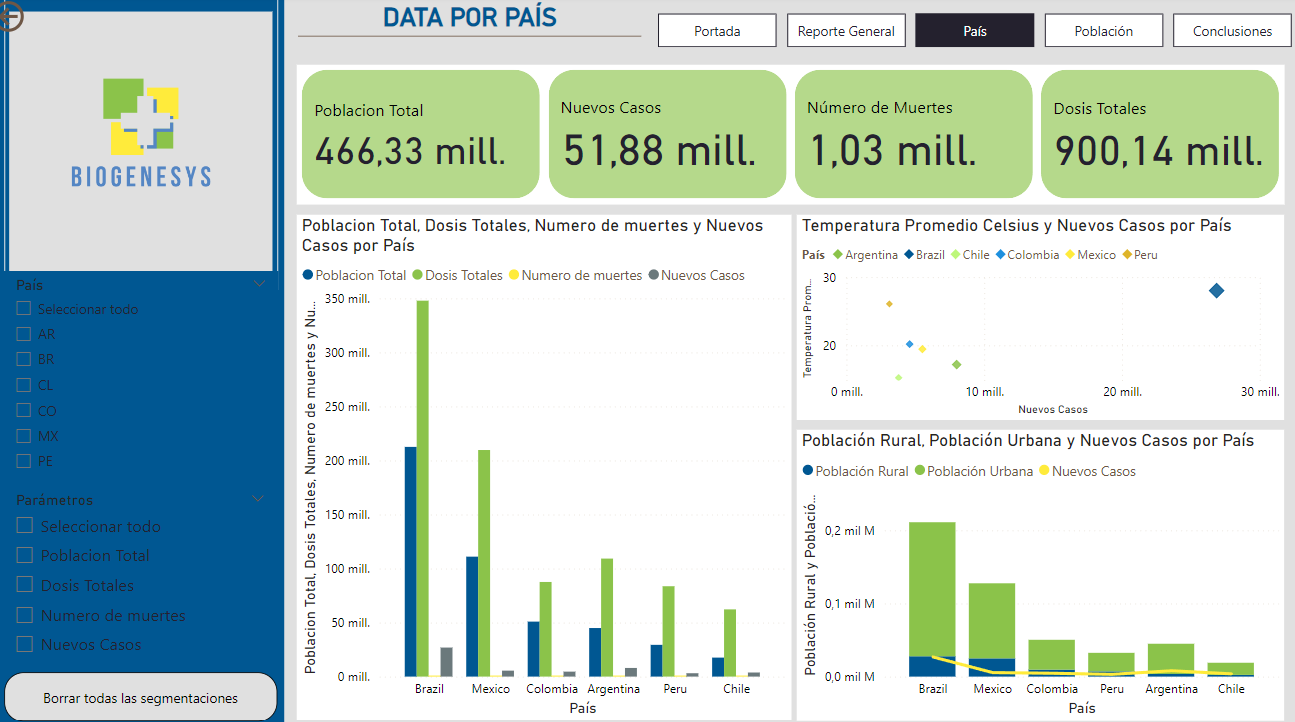

The dashboard page shown, as its layout file describes it:
{"tool":"powerbi","page":{"name":"País","canvas":[1280,720],"ordinal":2},"visuals":[{"type":"textbox","box":[9.8,0,280,720.2],"z":0},{"type":"image","box":[15.5,0,267.6,287.3],"z":1000},{"type":"textbox","title":"DATA POR PAÍS","box":[303.3,6.1,336.3,63.6],"z":2000},{"type":"pageNavigator","box":[655.1,17.1,624.9,33],"z":3000},{"type":"slicer","fields":{"Values":["Datos_Finales_Filtrados (2).country_code"]},"box":[14.5,269.5,269.5,210.3],"z":4000},{"type":"actionButton","box":[15.8,661.2,266.8,48.6],"z":5000},{"type":"actionButton","box":[0,0,100,40],"z":6000},{"type":"cardVisual","fields":{"Data":["Datos_Finales_Filtrados (2).Poblacion Total","Sum(Datos_Finales_Filtrados (2).new_confirmed)","Sum(Datos_Finales_Filtrados (2).new_deceased)","Datos_Finales_Filtrados (2).Dosis Totales"]},"box":[302.3,67,966.1,136.7],"z":7000},{"type":"clusteredColumnChart","fields":{"Y":["Datos_Finales_Filtrados (2).Poblacion Total","Datos_Finales_Filtrados (2).Dosis Totales","Tabla Medidas.Numero de muertes","Tabla Medidas.Nuevos Casos"],"Category":["Datos_Finales_Filtrados (2).country_name"]},"box":[302.3,214.3,483.7,495.5],"z":8000},{"type":"slicer","fields":{"Values":["Parámetros.Parámetros"]},"box":[14.5,479.8,268.1,178.8],"z":9000},{"type":"lineStackedColumnComboChart","fields":{"Category":["Datos_Finales_Filtrados (2).country_name"],"Y":["Avg(Datos_Finales_Filtrados (2).population_rural)","Avg(Datos_Finales_Filtrados (2).population_urban)"],"Y2":["Tabla Medidas.Nuevos Casos"]},"box":[791.3,424.6,477.1,285.2],"z":11000},{"type":"scatterChart","title":"Temperatura Promedio Celsius y Nuevos Casos por País","fields":{"Series":["Datos_Finales_Filtrados (2).country_name"],"Size":["Tabla Medidas.Nuevos Casos"],"X":["Tabla Medidas.Nuevos Casos"],"Y":["Avg(Datos_Finales_Filtrados (2).average_temperature_celsius)"]},"box":[791.3,214.3,477.1,201.1],"z":11001}]}

Visuals, with their boxes on the page's 1280x720 design canvas (x1, y1, x2, y2). These are canvas units, not pixel positions in the 1295x722 screenshot, which may show the page scaled, cropped or inside an application window:
textbox: left=10, top=0, right=290, bottom=720
image: left=16, top=0, right=283, bottom=287
"DATA POR PAÍS" textbox: left=303, top=6, right=640, bottom=70
pageNavigator: left=655, top=17, right=1280, bottom=50
slicer - Datos_Finales_Filtrados (2).country_code: left=14, top=270, right=284, bottom=480
actionButton: left=16, top=661, right=283, bottom=710
actionButton: left=0, top=0, right=100, bottom=40
cardVisual - Datos_Finales_Filtrados (2).Poblacion Total x Sum(Datos_Finales_Filtrados (2).new_confirmed): left=302, top=67, right=1268, bottom=204
clusteredColumnChart - Datos_Finales_Filtrados (2).Poblacion Total x Datos_Finales_Filtrados (2).Dosis Totales: left=302, top=214, right=786, bottom=710
slicer - Parámetros.Parámetros: left=14, top=480, right=283, bottom=659
lineStackedColumnComboChart - Datos_Finales_Filtrados (2).country_name x Avg(Datos_Finales_Filtrados (2).population_rural): left=791, top=425, right=1268, bottom=710
"Temperatura Promedio Celsius y Nuevos Casos por País" scatterChart: left=791, top=214, right=1268, bottom=415
